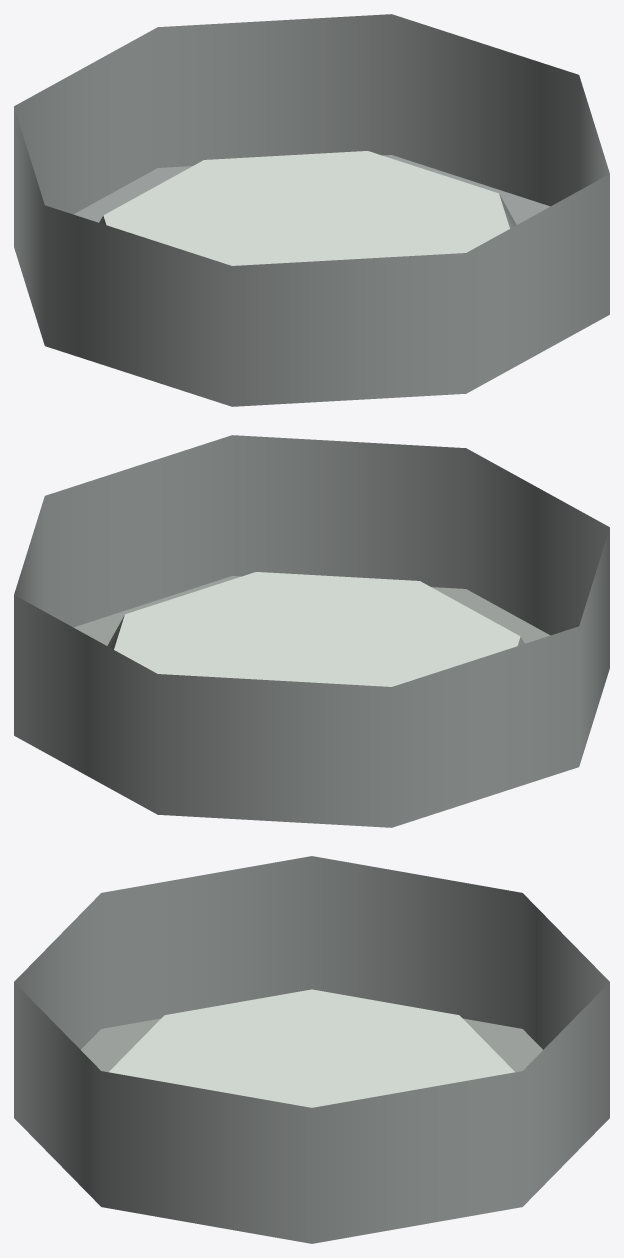
File: SM_Bld_House_Spotlight_01.obj
3 views of the same model, one above another, from view 1: azimuth 30°, elevation 25°; view 2: azimuth 150°, elevation 25°; view 3: azimuth 270°, elevation 25° (orthographic). The views are drawn at different scales.
Visible parts, largest first — view 1: SM_Bld_House_Spotlight_01_Mat_SwatchOverlay_PolygonTown_01_Inst; view 2: SM_Bld_House_Spotlight_01_Mat_SwatchOverlay_PolygonTown_01_Inst; view 3: SM_Bld_House_Spotlight_01_Mat_SwatchOverlay_PolygonTown_01_Inst.
Boxes of the visible parts, left/top/right/bottom form: SM_Bld_House_Spotlight_01_Mat_SwatchOverlay_PolygonTown_01_Inst: left=14, top=14, right=609, bottom=406; SM_Bld_House_Spotlight_01_Mat_SwatchOverlay_PolygonTown_01_Inst: left=14, top=435, right=609, bottom=827; SM_Bld_House_Spotlight_01_Mat_SwatchOverlay_PolygonTown_01_Inst: left=14, top=856, right=609, bottom=1243.
Size of the model in its own units: 0.2003 by 0.0504 by 0.2003.
1 material, 1 textured.
